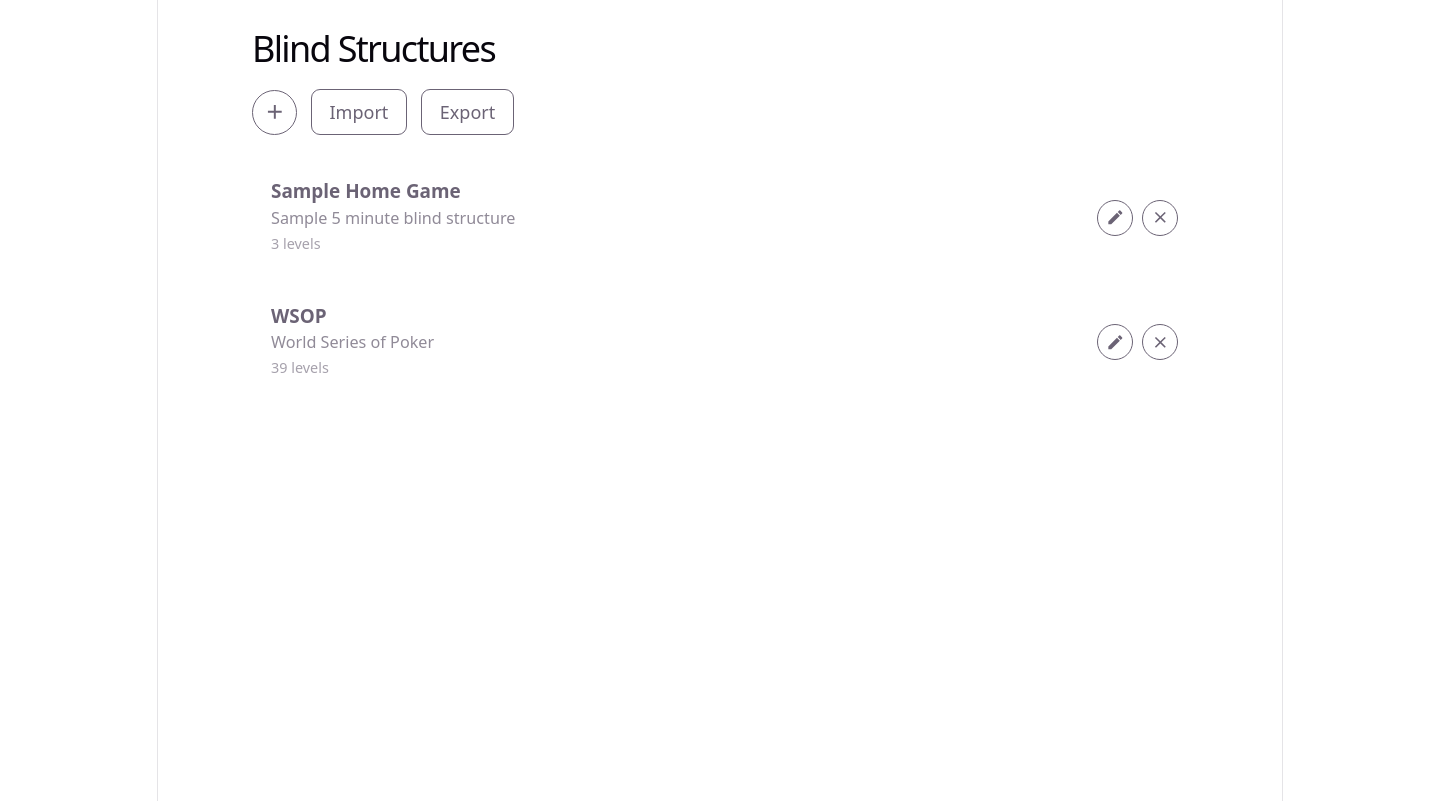
Test: SettingsPage › rejects a duplicate name when creating a structure
Click the button named "New Blind Structure". click: [274, 112]
box: [252,90,297,135]
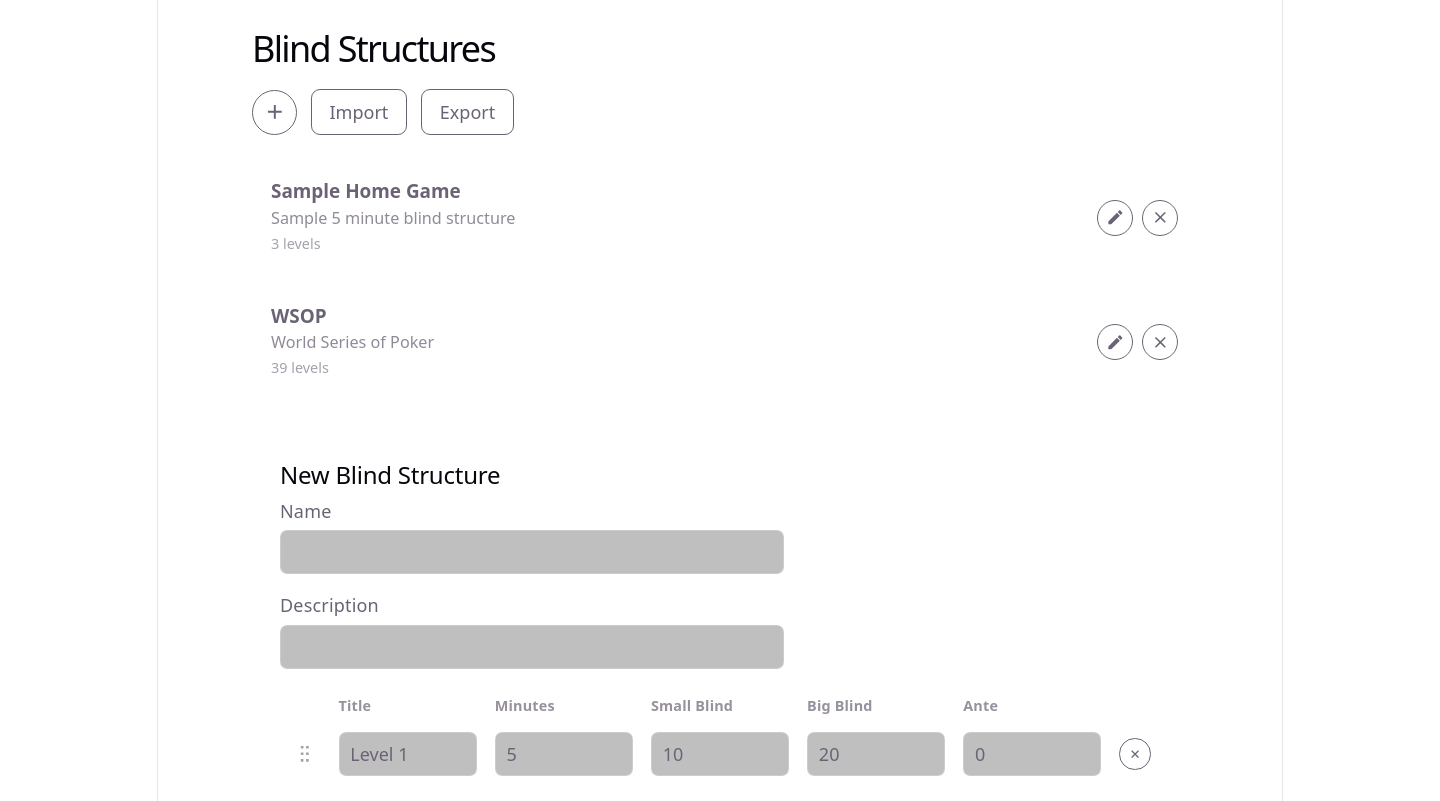
Type "Sample Home Game" into the field labelled "Name". click: [532, 552]
box: [280,530,784,574]
(page scrolled)
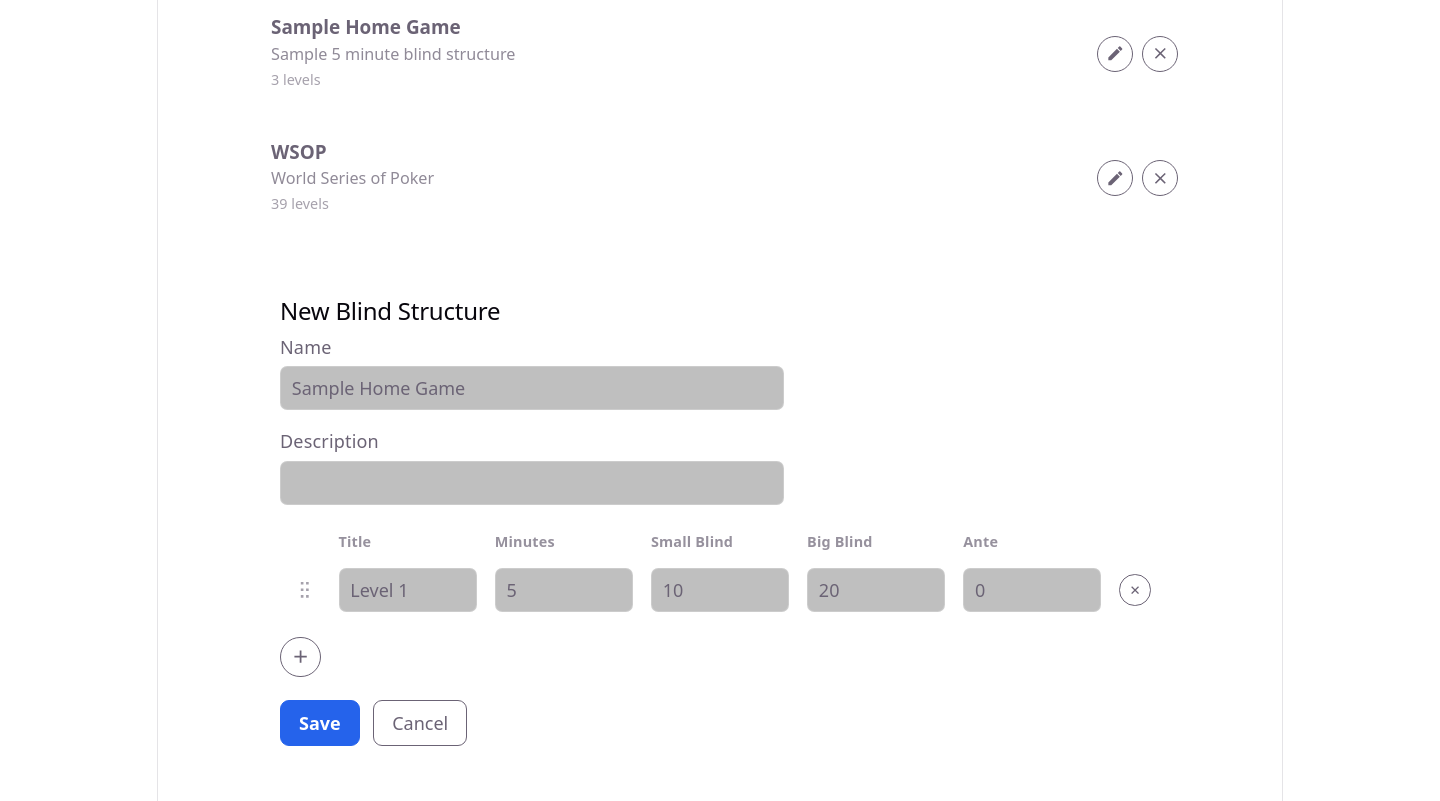
Click the button "Save". click: [320, 723]
box: [280,700,360,746]
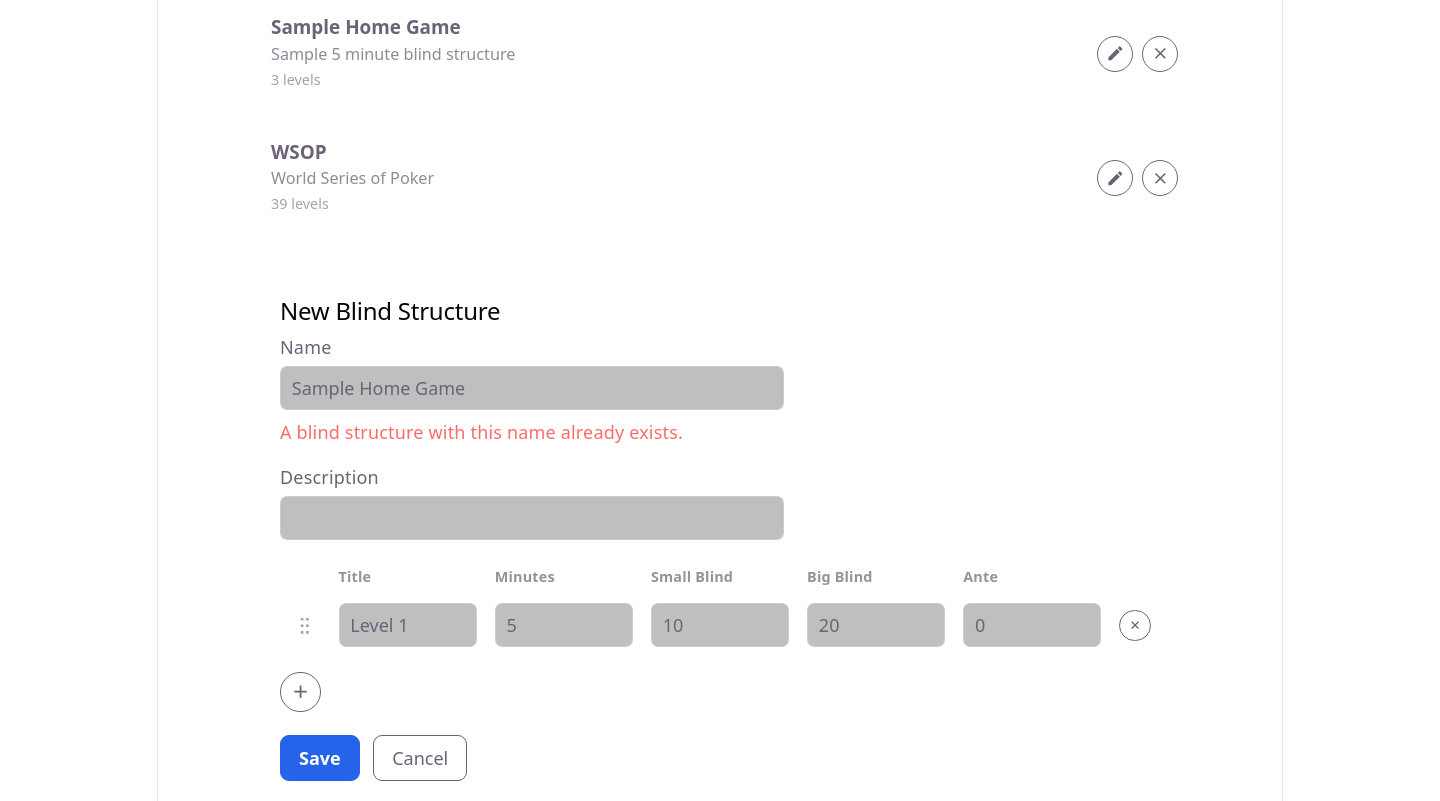
Result: the text "A blind structure with this name already exists." is shown at [280,420,683,444]
